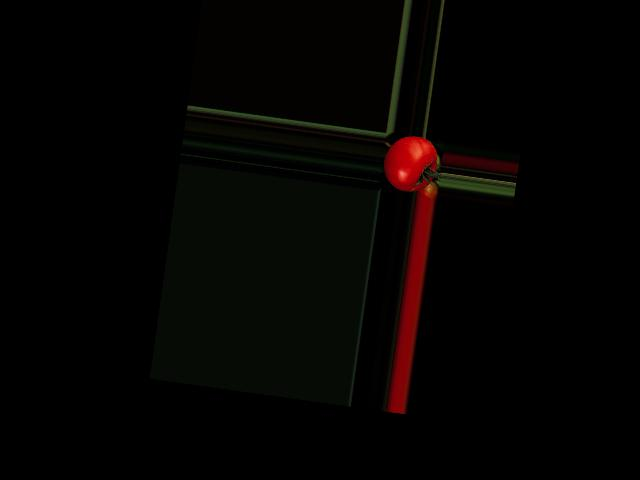tomato: (380, 132, 439, 194)
